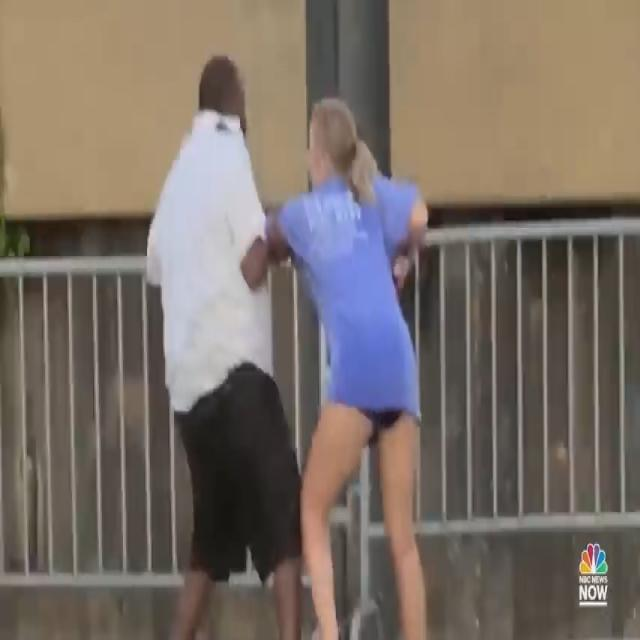fight: (132, 44, 445, 640)
